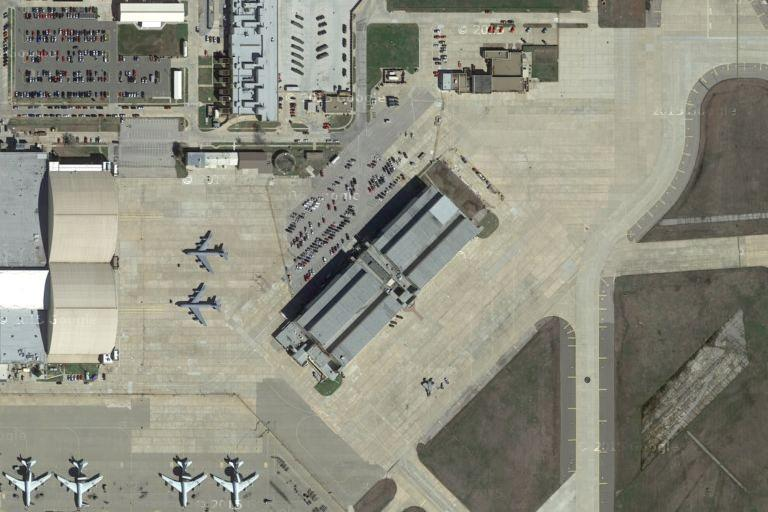E-3: (207, 452, 262, 507), (158, 454, 211, 510), (54, 459, 108, 510), (5, 455, 55, 507)
KC-135: (178, 228, 229, 277), (174, 282, 223, 324)
